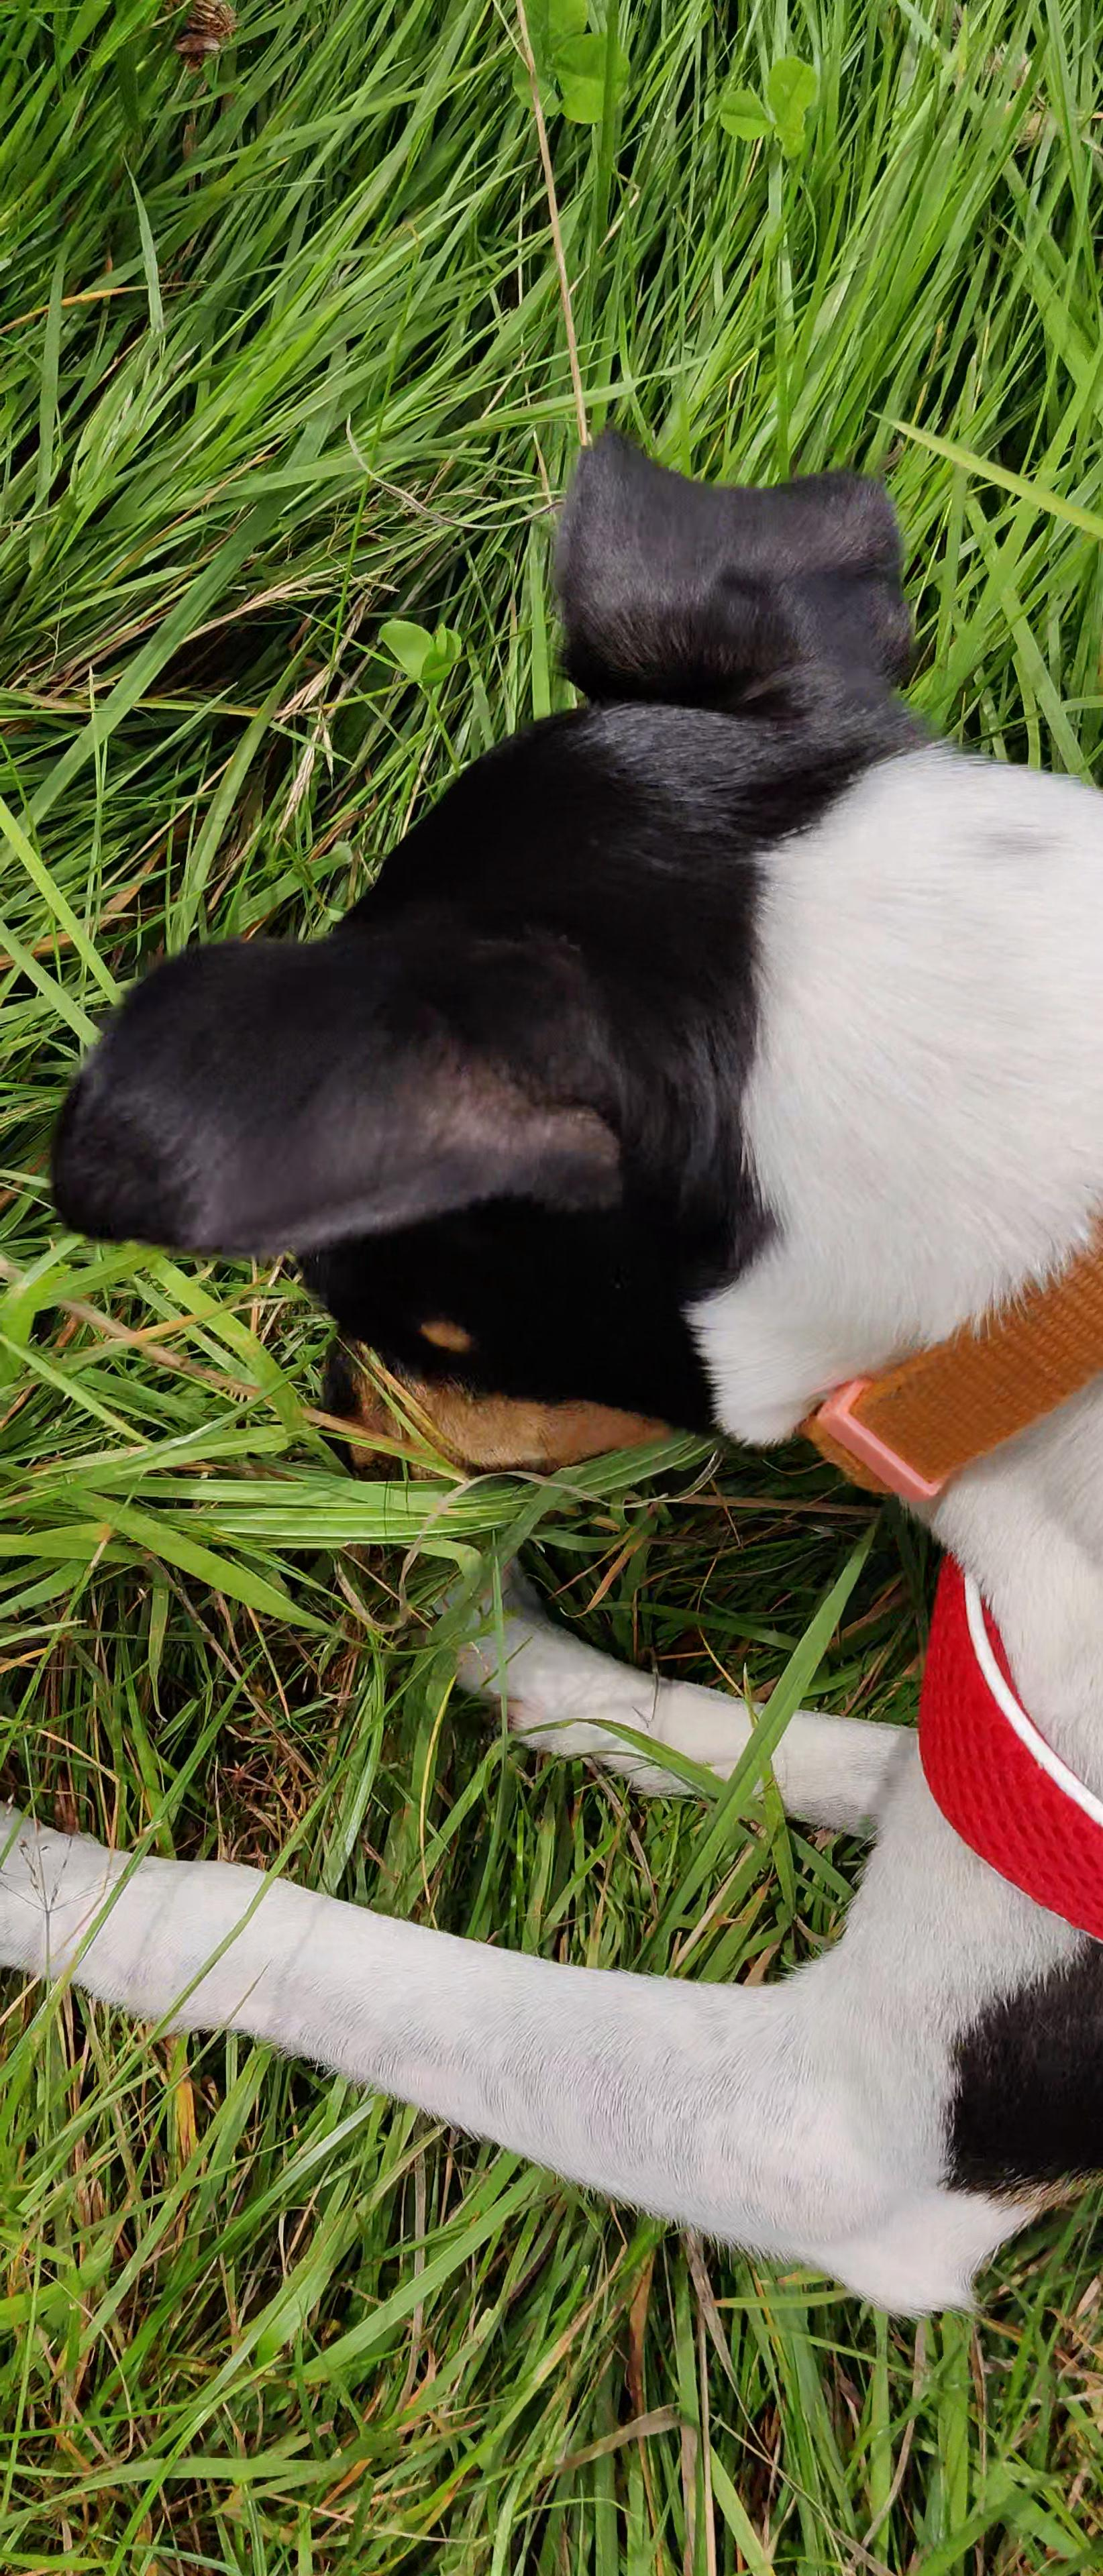Dog: (0, 361, 1103, 2364)
